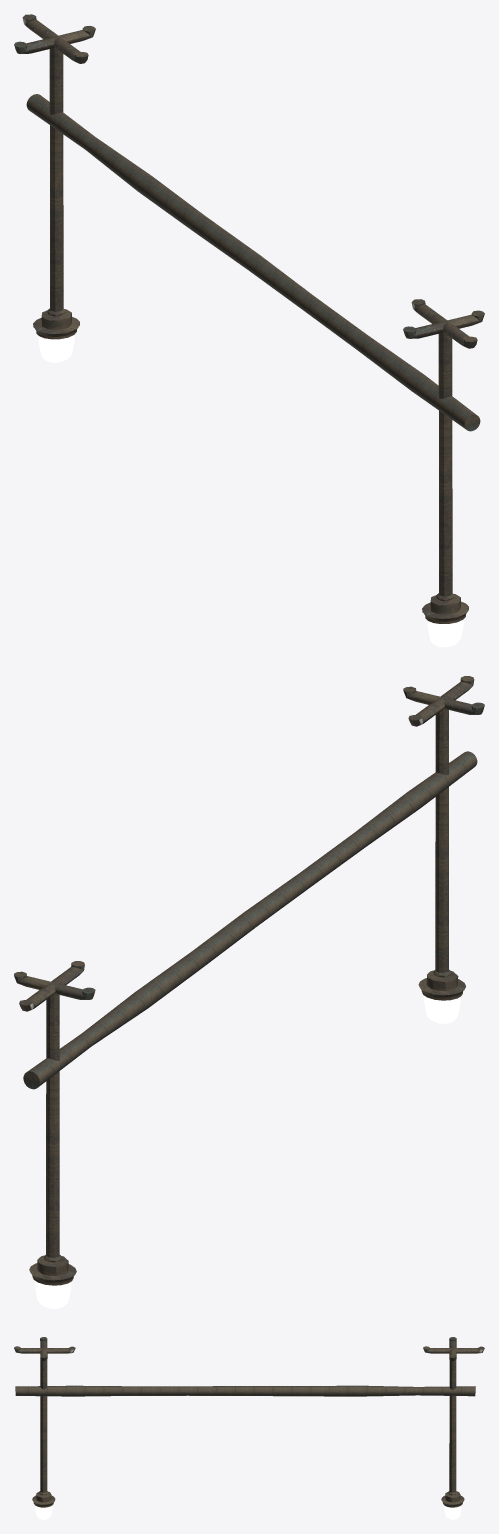
File: headlight pipes.glb
3 views of the same model, one above another, from view 1: azimuth 30°, elevation 25°; view 2: azimuth 150°, elevation 25°; view 3: azimuth 270°, elevation 25° (orthographic). The views are drawn at different scales.
Parts seen in each view (by area): view 1: Cylinder, Cylinder.001, Cylinder.002; view 2: Cylinder, Cylinder.001, Cylinder.002; view 3: Cylinder, Cylinder.001, Cylinder.002.
Boxes of the visible parts, x1,y1,x2,y2 form: Cylinder: (26,94,480,431); Cylinder.001: (14,14,95,362); Cylinder.002: (403,299,484,647); Cylinder: (23,751,477,1089); Cylinder.001: (14,961,95,1308); Cylinder.002: (403,676,484,1023); Cylinder: (15,1385,475,1396); Cylinder.001: (423,1337,484,1519); Cylinder.002: (14,1337,75,1519).
Size of the model in its own units: 0.2465 by 0.959 by 2.4.
2 materials, 1 textured.
